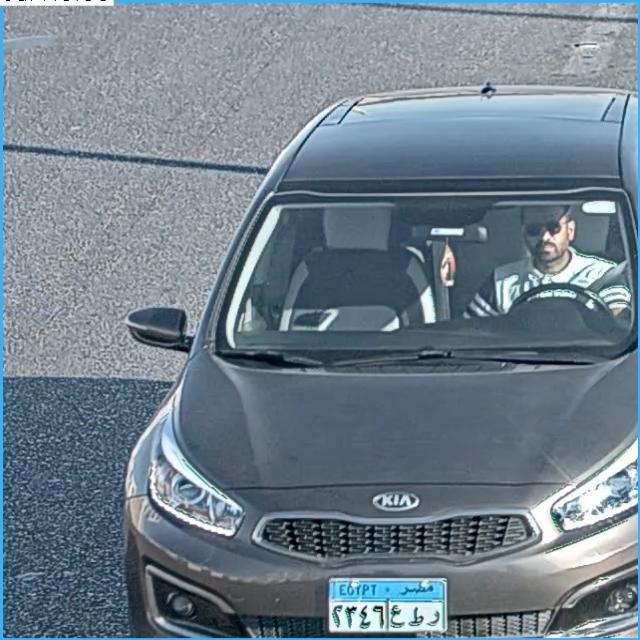windshield: (216, 191, 640, 353)
